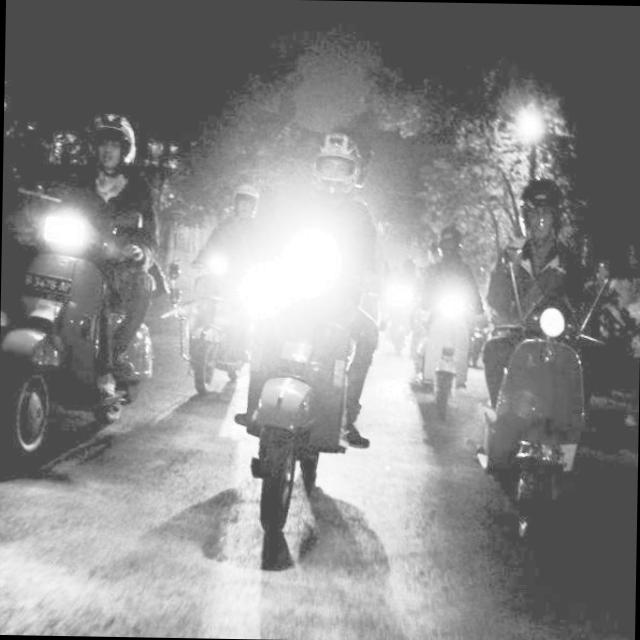Motorcycle: (231, 264, 394, 567), (450, 265, 608, 546), (0, 188, 154, 465), (418, 267, 516, 450), (174, 266, 274, 392)
